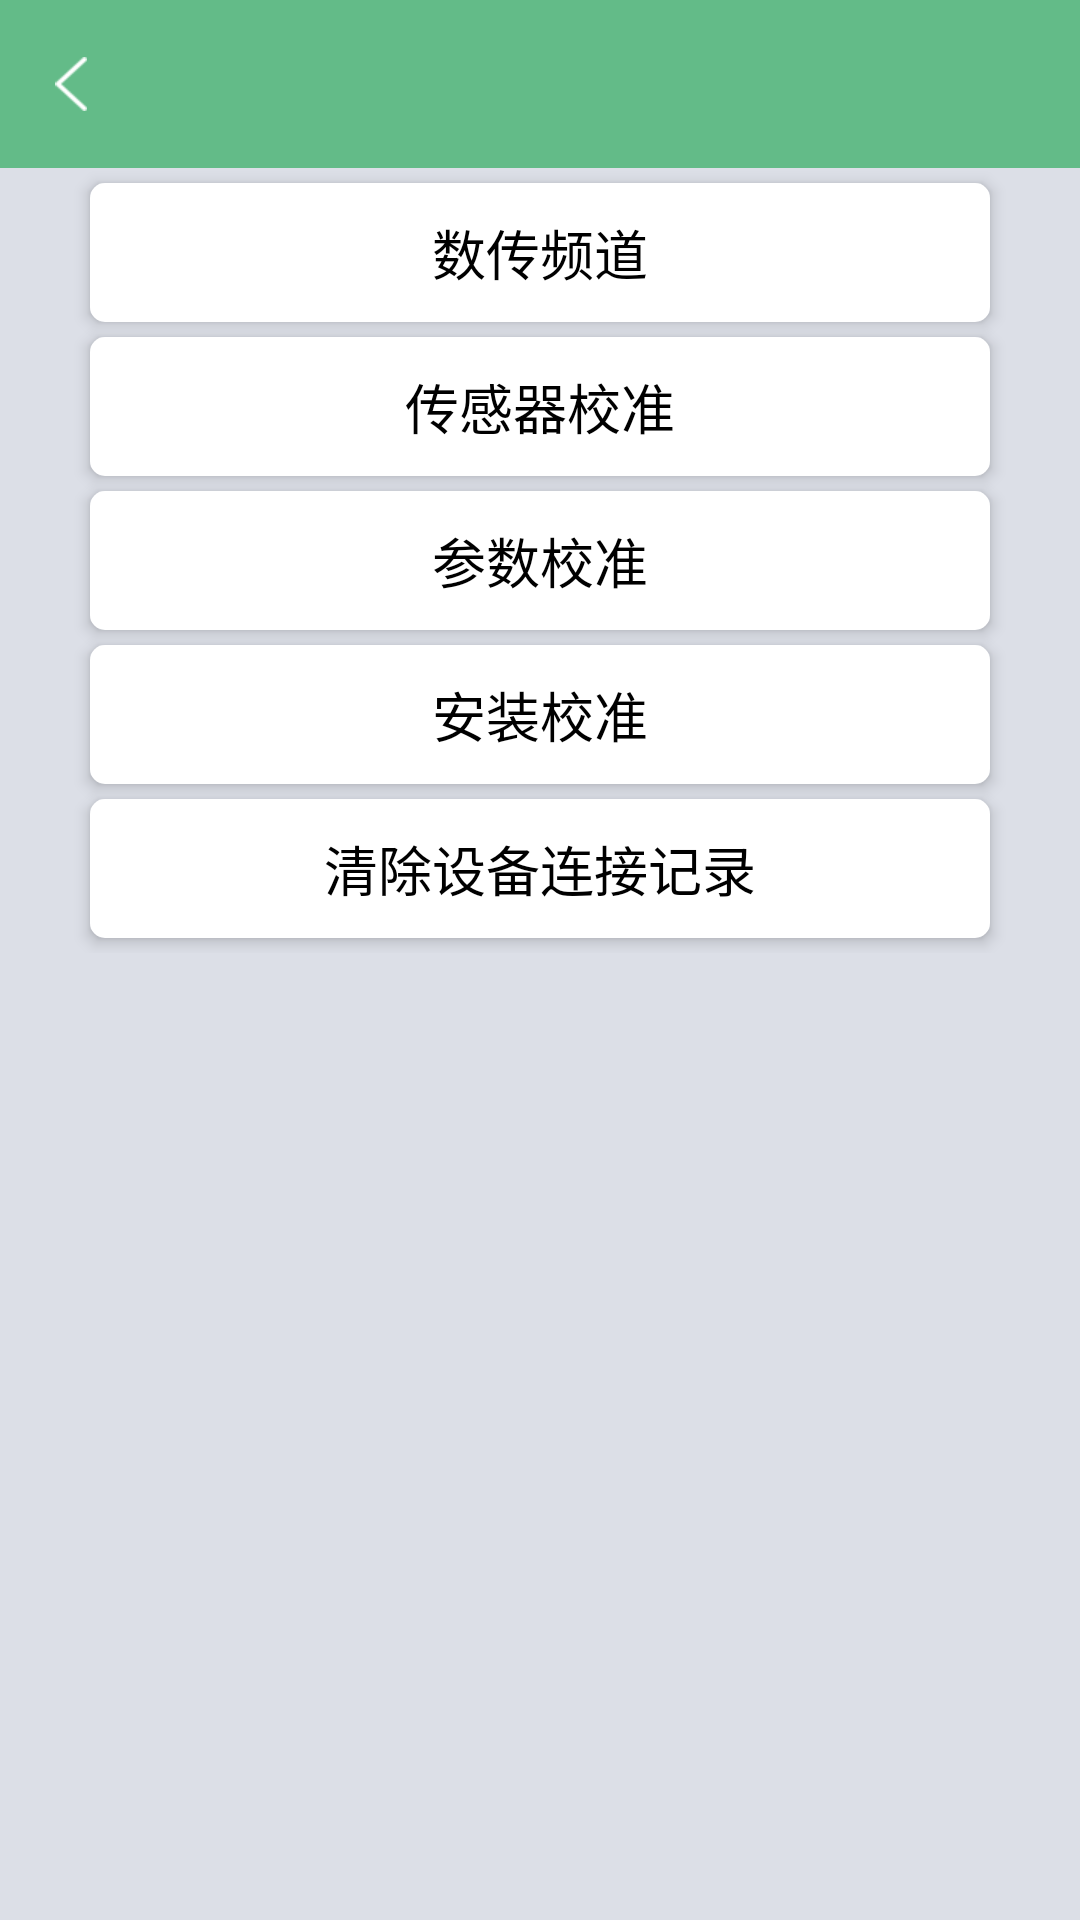

Screen size 1080 × 1920. Icon name, then its box in pixels as (x1, y1, x2, y2):
back: (55, 57, 87, 111)
